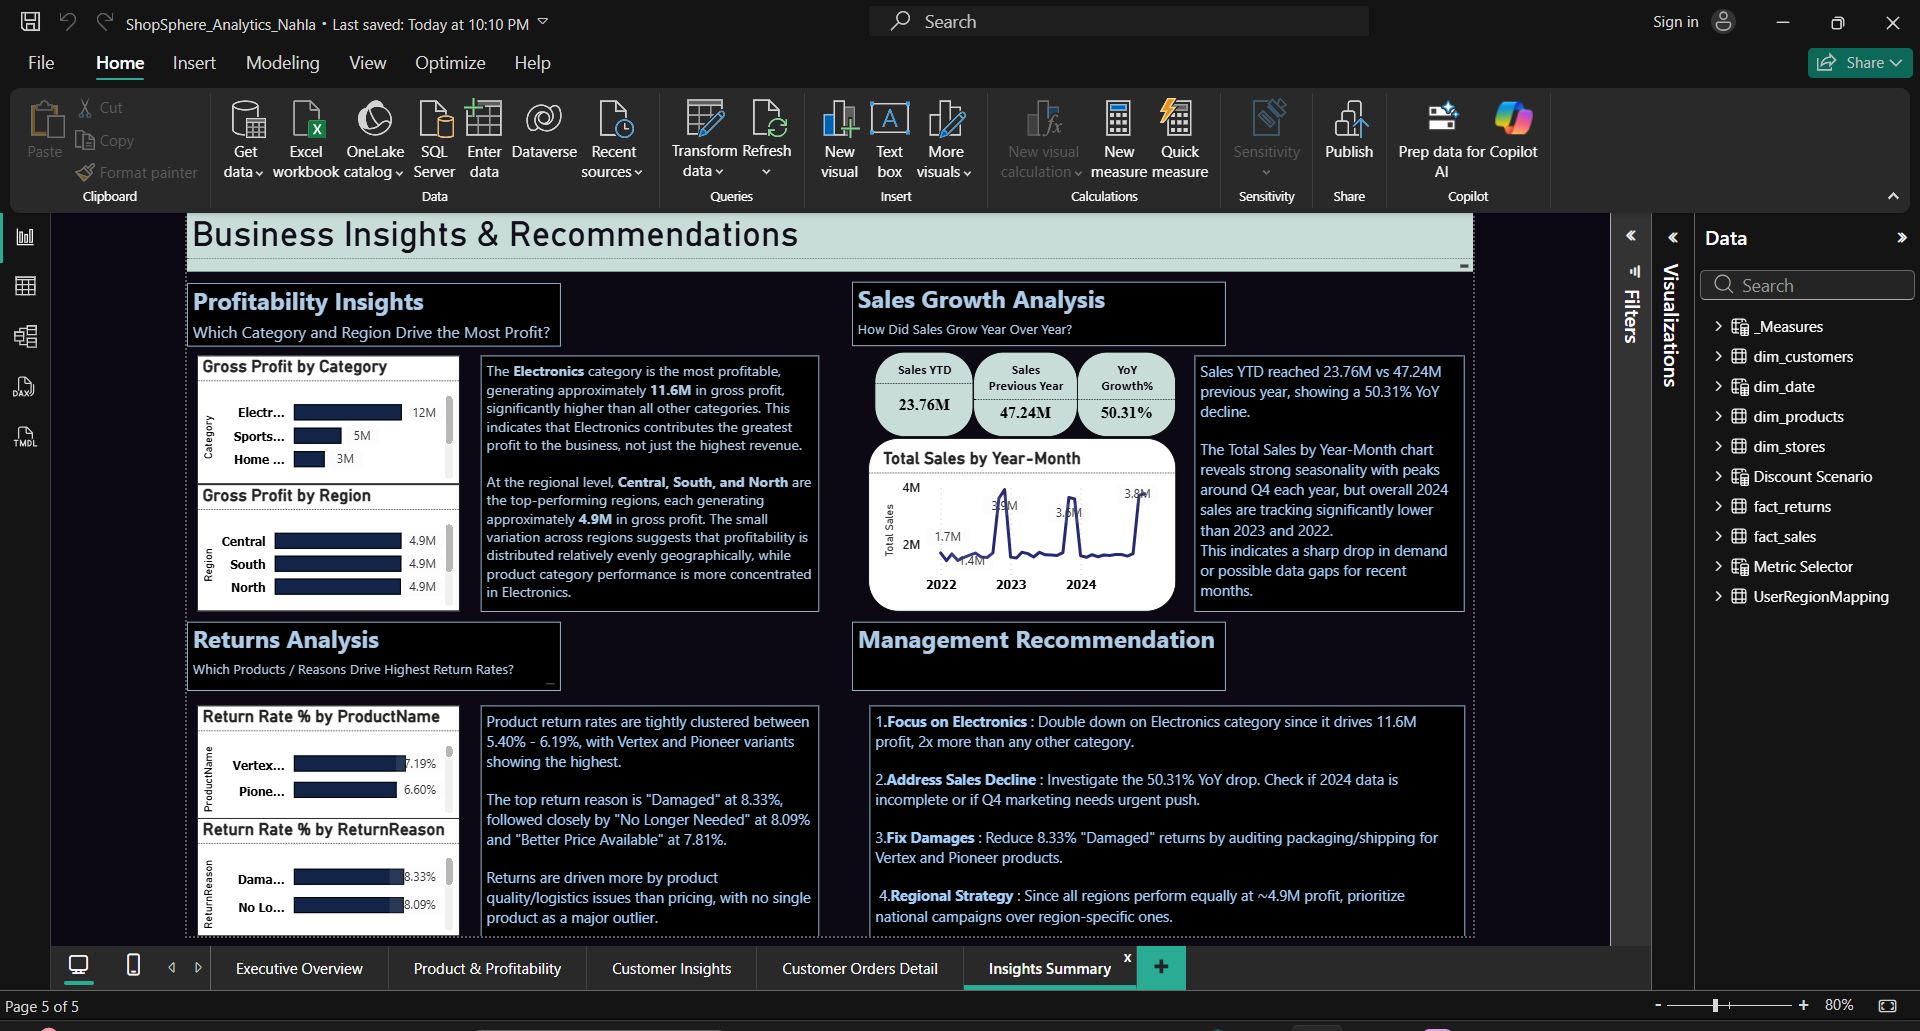

The page's visual inventory and layout, read from the dashboard file:
{"tool":"powerbi","page":{"name":" Insights Summary","canvas":[1280,720],"ordinal":4},"visuals":[{"type":"textbox","title":"Business Insights & Recommendations","box":[0,0,1280,58.5],"z":0},{"type":"clusteredBarChart","fields":{"Category":["dim_products.Category"],"Y":["_Measures.Gross Profit"]},"box":[10,141.8,261.2,128.1],"z":1000},{"type":"clusteredBarChart","fields":{"Category":["dim_customers.Region"],"Y":["_Measures.Gross Profit"]},"box":[10,270,261.2,126.2],"z":2000},{"type":"textbox","title":"Profitability Insights","box":[0,69.7,371.9,63.4],"z":3000},{"type":"textbox","title":"Returns Analysis","box":[0,406.8,371.9,68.4],"z":4000},{"type":"textbox","title":"Management Recommendation","box":[662.3,406.6,372.1,68.9],"z":5000},{"type":"textbox","title":"Sales Growth Analysis","box":[662.3,68.9,372.1,63.9],"z":6000},{"type":"textbox","box":[292.3,141.8,337.1,255],"z":7000},{"type":"card","title":"Sales YTD ","fields":{"Values":["_Measures.Sales YTD"]},"box":[683.8,137.5,98.8,85],"z":8000},{"type":"card","title":"Sales Previous Year","fields":{"Values":["_Measures.Sales Previous Year"]},"box":[782.5,137.5,103.8,85],"z":9000},{"type":"card","title":"YoY Growth%","fields":{"Values":["_Measures.YoY Growth %"]},"box":[886.2,137.5,98.8,85],"z":10000},{"type":"lineChart","fields":{"Category":["dim_date.Year-Month"],"Y":["_Measures.Total Sales"]},"box":[678,223.9,306,172.9],"z":11000},{"type":"clusteredBarChart","fields":{"Category":["dim_products.ProductName"],"Y":["_Measures.Return Rate %"]},"box":[10,490,261.2,112.5],"z":12000},{"type":"clusteredBarChart","fields":{"Category":["fact_returns.ReturnReason"],"Y":["_Measures.Return Rate %"]},"box":[10,602.5,261.2,117.5],"z":13000},{"type":"textbox","box":[1002.5,141.2,268.8,255],"z":14000},{"type":"textbox","box":[292.3,490.1,337.1,230.1],"z":15000},{"type":"textbox","box":[678.8,490,592.5,230],"z":16000}]}

Visuals, with their boxes on the page's 1280x720 design canvas (x1, y1, x2, y2). These are canvas units, not pixel positions in the 1920x1031 screenshot, which may show the page scaled, cropped or inside an application window:
"Business Insights & Recommendations" textbox: Rect(0, 0, 1280, 58)
clusteredBarChart - dim_products.Category x _Measures.Gross Profit: Rect(10, 142, 271, 270)
clusteredBarChart - dim_customers.Region x _Measures.Gross Profit: Rect(10, 270, 271, 396)
"Profitability Insights" textbox: Rect(0, 70, 372, 133)
"Returns Analysis" textbox: Rect(0, 407, 372, 475)
"Management Recommendation" textbox: Rect(662, 407, 1034, 476)
"Sales Growth Analysis" textbox: Rect(662, 69, 1034, 133)
textbox: Rect(292, 142, 629, 397)
"Sales YTD " card: Rect(684, 138, 783, 222)
"Sales Previous Year" card: Rect(782, 138, 886, 222)
"YoY Growth%" card: Rect(886, 138, 985, 222)
lineChart - dim_date.Year-Month x _Measures.Total Sales: Rect(678, 224, 984, 397)
clusteredBarChart - dim_products.ProductName x _Measures.Return Rate %: Rect(10, 490, 271, 602)
clusteredBarChart - fact_returns.ReturnReason x _Measures.Return Rate %: Rect(10, 602, 271, 720)
textbox: Rect(1002, 141, 1271, 396)
textbox: Rect(292, 490, 629, 720)
textbox: Rect(679, 490, 1271, 720)
